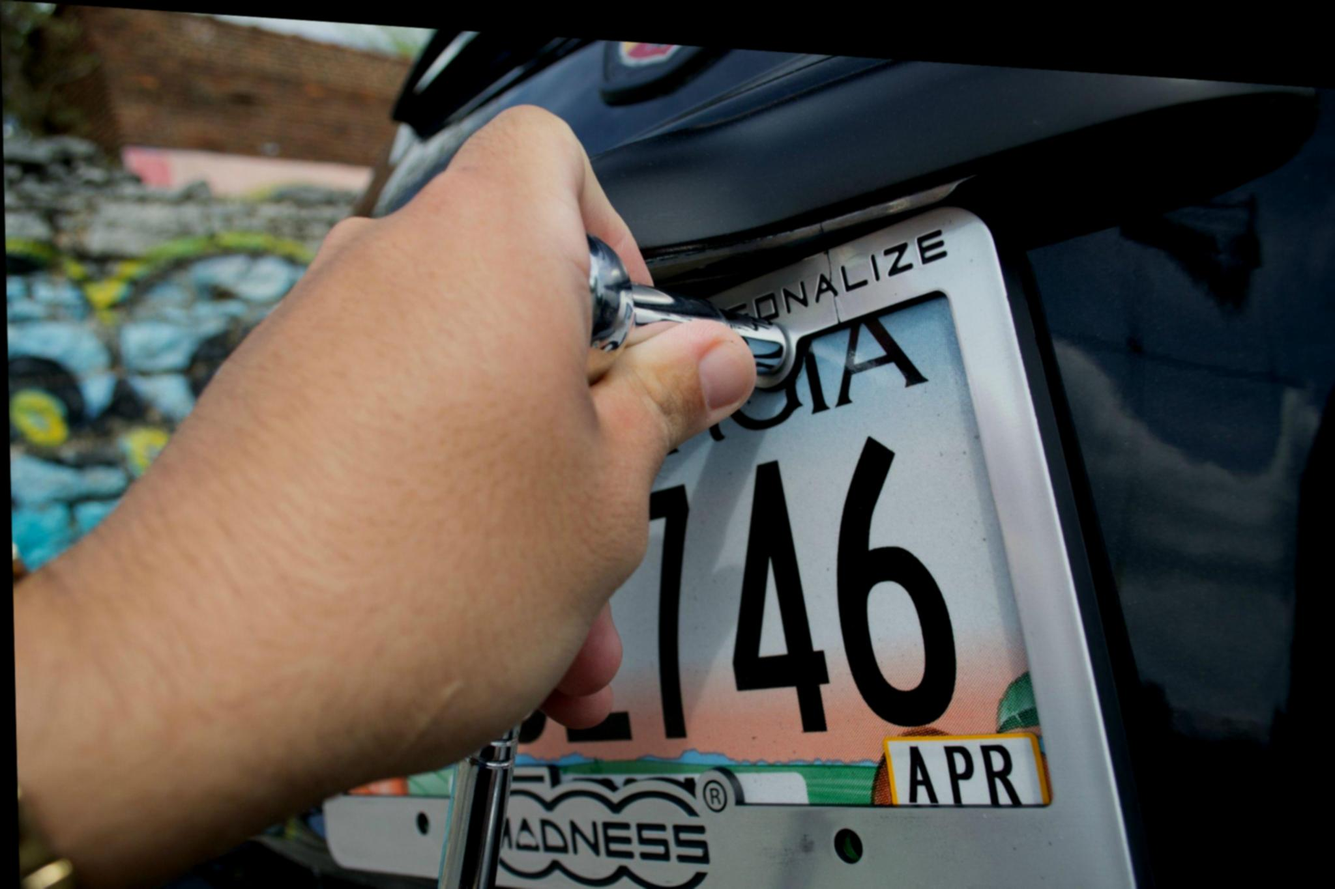License_Plate: (313, 177, 1145, 889)
